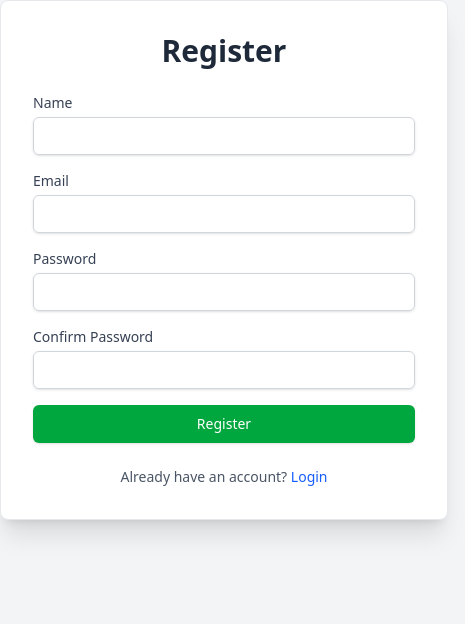
Test: RegisterForm › shows error message on API error
Type "Test User" into the field labelled "Name" at (224, 136), box [33,117,415,155]
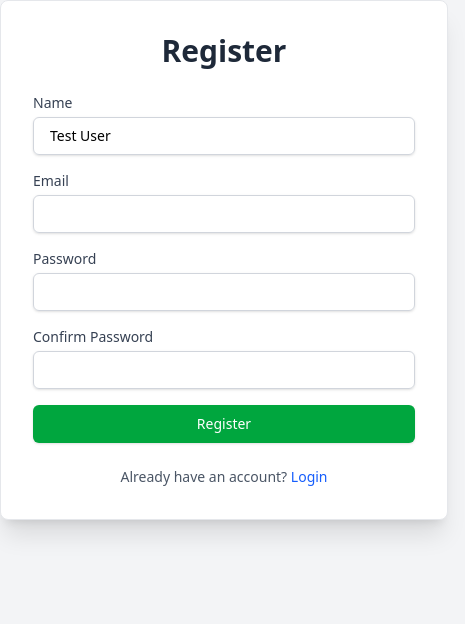
Type "fail@example.com" into the field labelled "Email" at (224, 214), box [33,195,415,233]
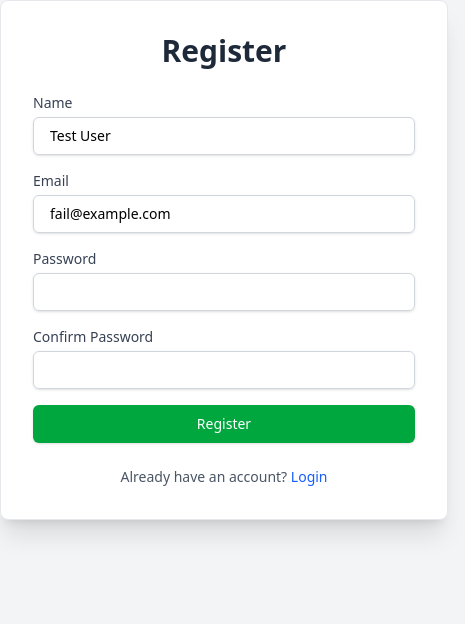
Type "wrong" into the password field labelled "Password" at (224, 292), box [33,273,415,311]
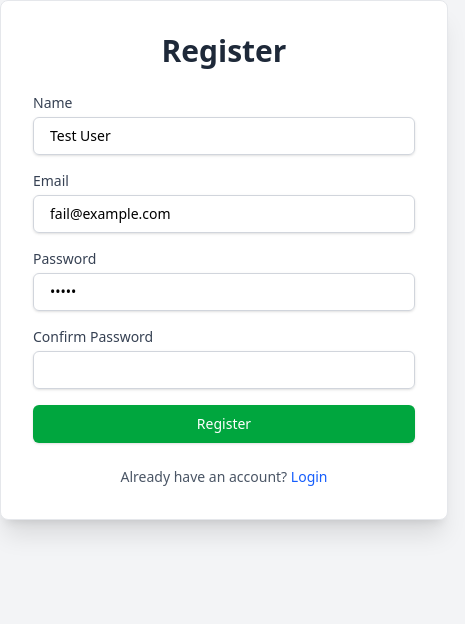
Type "wrong" into the password field labelled "Confirm Password" at (224, 370), box [33,351,415,389]
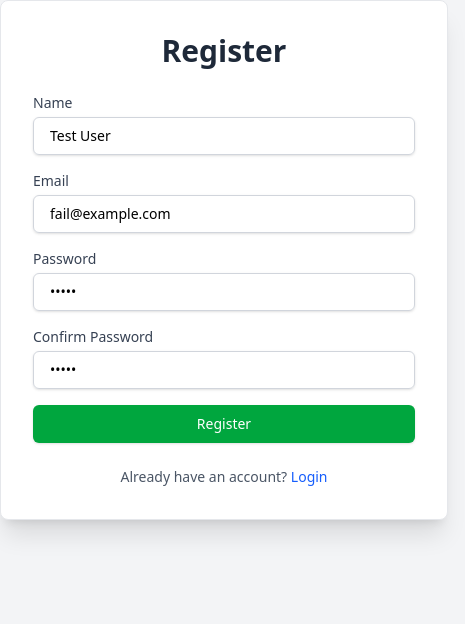
Click the button "Register" at (224, 424), box [33,405,415,443]
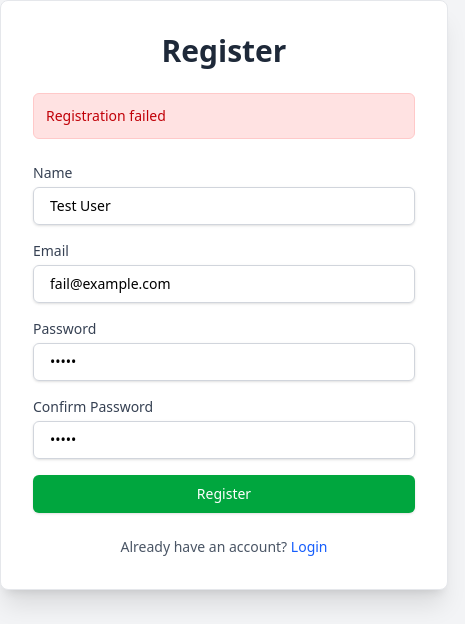
Now the text "Registration failed" is shown, box [33,93,415,139]
